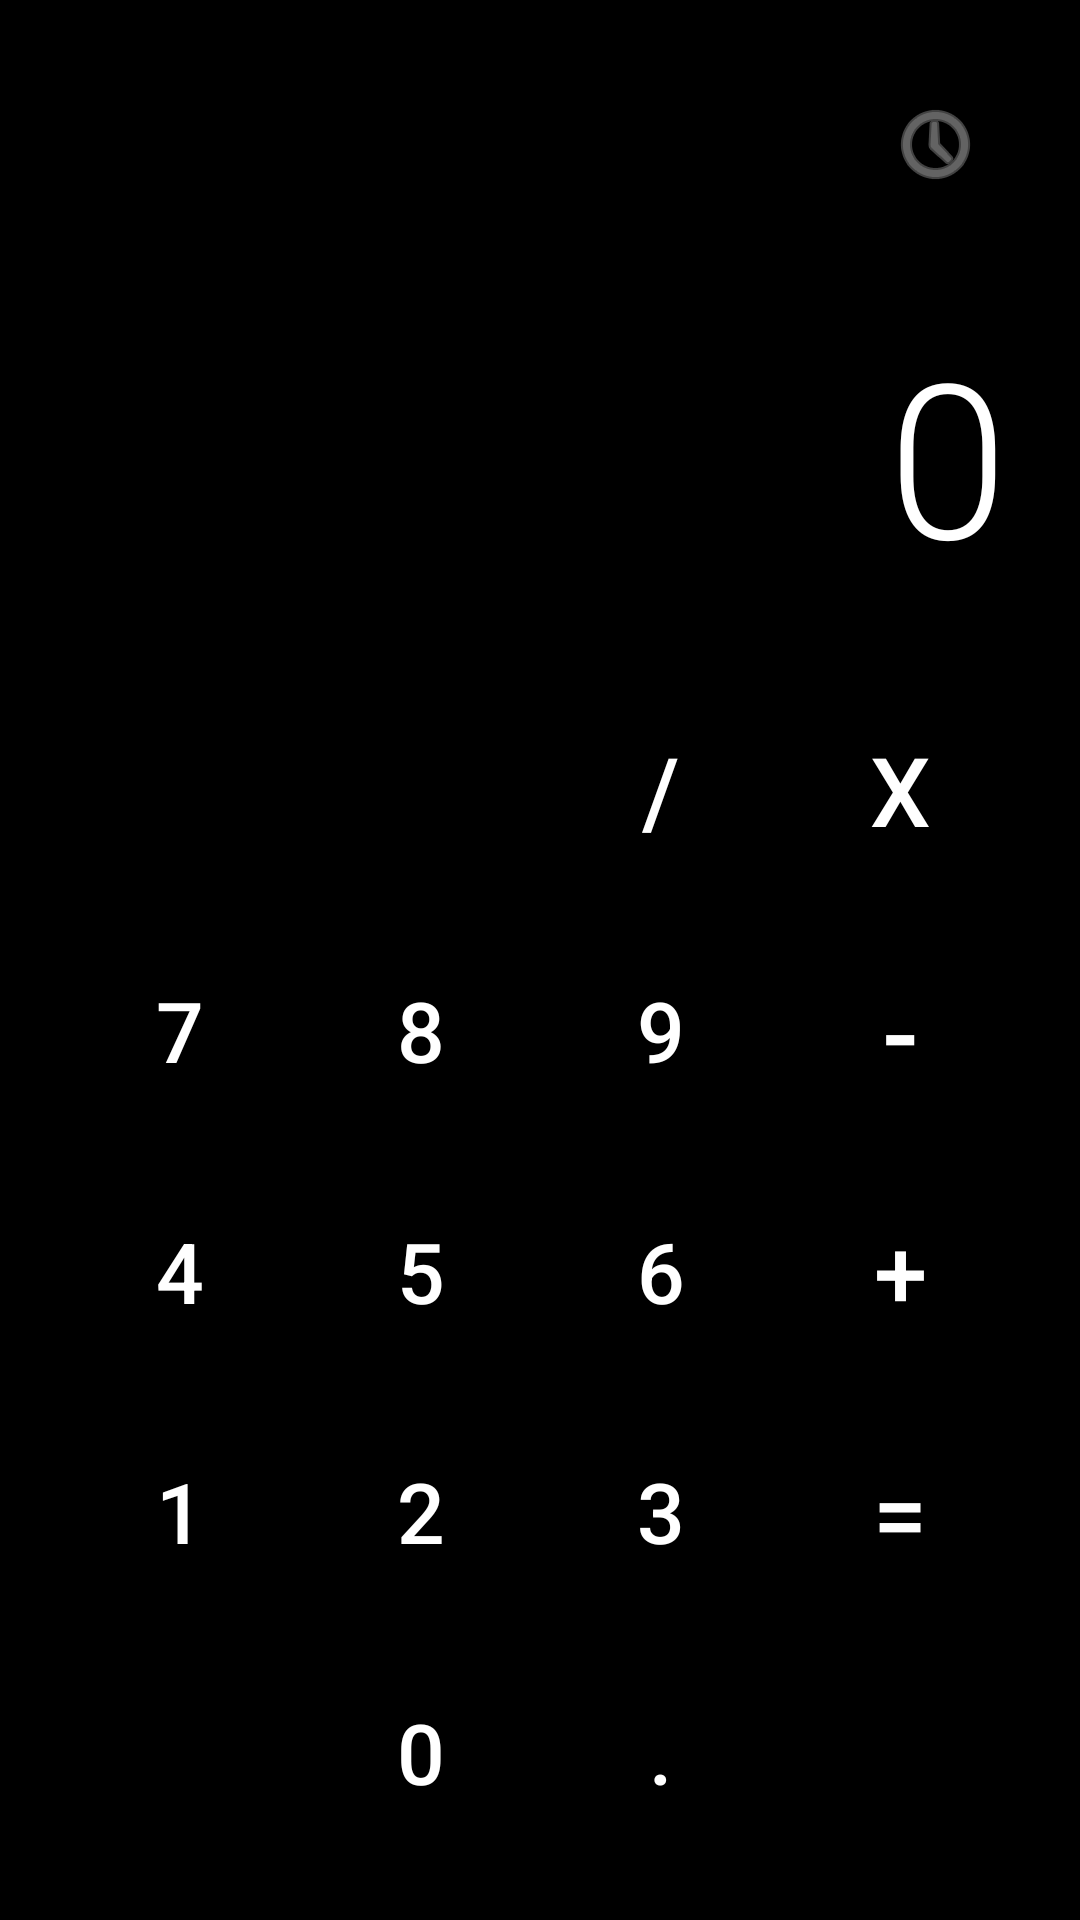

Point at icon controls on the screen. Image size 1080*1920, points as (x=x, y=y).
History: (x=935, y=144)
